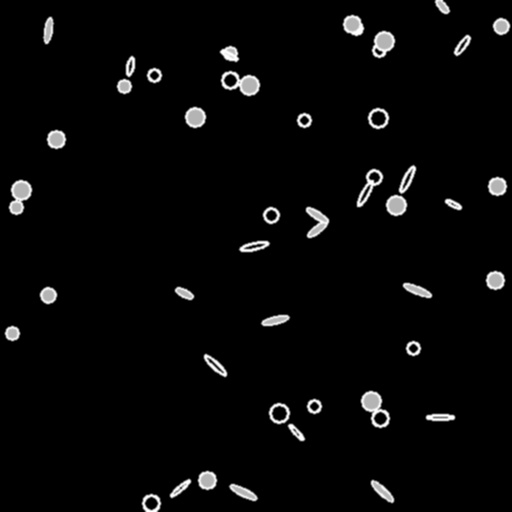pseudomonas: (202, 353, 228, 377), (397, 164, 417, 194), (370, 479, 394, 503), (355, 179, 375, 207), (229, 483, 257, 501), (403, 282, 431, 298), (305, 206, 329, 224), (239, 239, 269, 253), (453, 34, 471, 56), (169, 479, 191, 497), (306, 220, 328, 238), (287, 423, 305, 441), (262, 314, 288, 326), (174, 286, 194, 300), (43, 17, 53, 43), (434, 0, 450, 14), (220, 49, 238, 61), (125, 56, 135, 76), (445, 198, 461, 210), (427, 414, 453, 420)
synechocystis: (362, 392, 380, 410), (186, 108, 204, 126), (387, 196, 405, 214), (270, 404, 288, 422), (12, 181, 30, 199), (240, 76, 258, 94), (375, 32, 393, 50), (369, 109, 387, 127), (489, 178, 505, 194), (222, 72, 238, 88), (372, 410, 388, 426), (48, 131, 64, 147), (487, 272, 503, 288), (344, 16, 360, 32), (199, 472, 215, 488), (143, 495, 159, 511), (367, 170, 381, 184), (41, 288, 55, 302), (264, 208, 278, 222), (494, 19, 508, 33), (6, 327, 18, 339), (148, 69, 160, 81), (373, 44, 385, 56), (118, 80, 130, 92), (407, 342, 419, 354), (298, 114, 310, 126), (10, 201, 22, 213), (350, 22, 362, 34), (308, 400, 320, 412), (224, 47, 236, 59)
